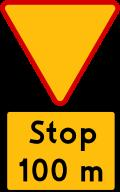Stop: (18, 74, 108, 155)
